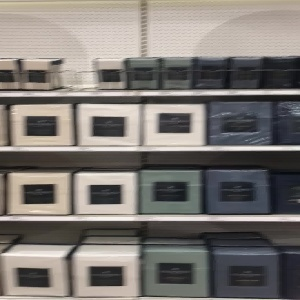void: (57, 1, 96, 92)
